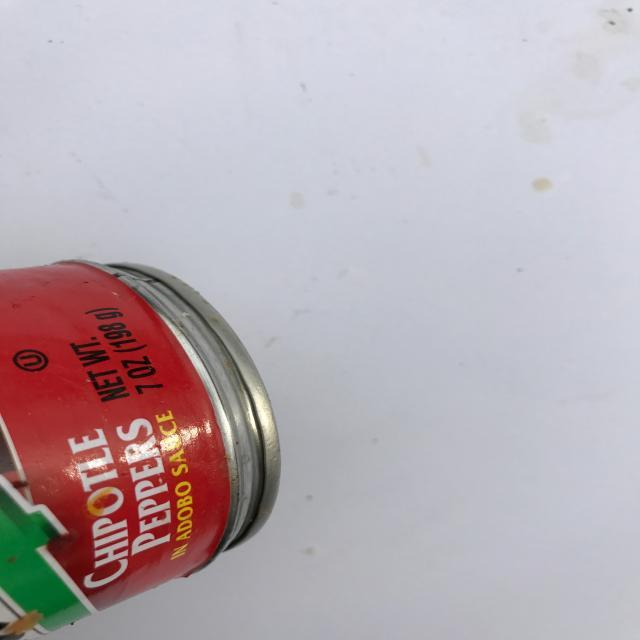metal: (2, 254, 287, 640)
